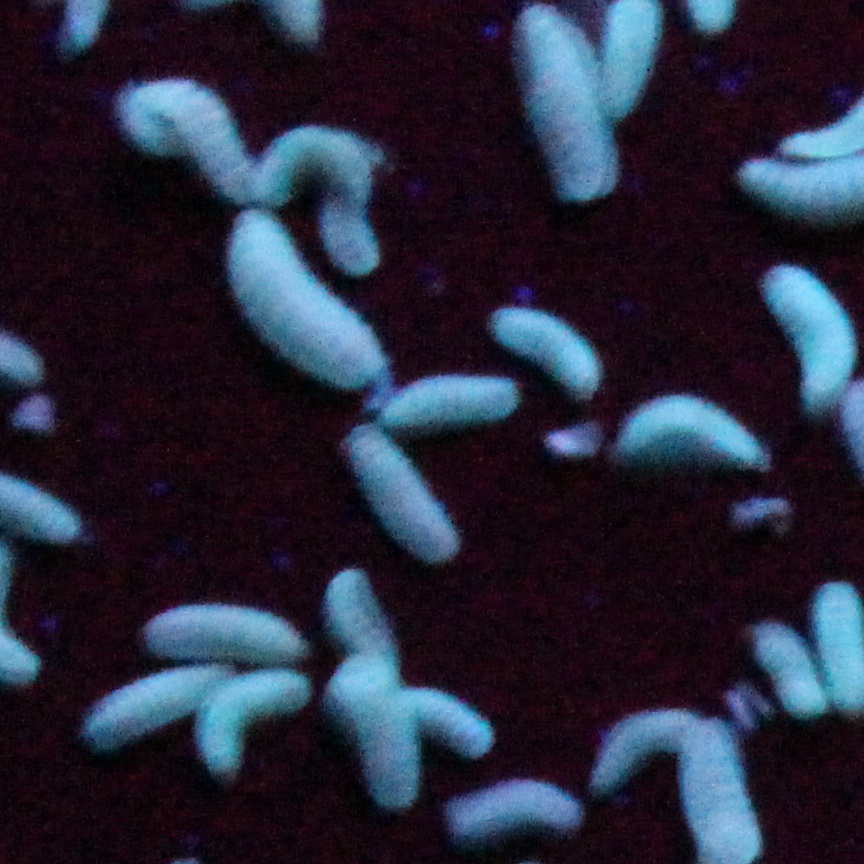larve: (202, 204, 390, 408), (107, 72, 267, 210), (333, 424, 476, 567), (318, 654, 434, 816), (748, 256, 862, 416), (317, 124, 411, 293), (613, 393, 773, 487), (195, 664, 313, 780), (139, 596, 319, 667), (485, 301, 608, 404), (742, 613, 825, 744), (433, 773, 590, 841), (73, 667, 216, 741), (373, 366, 518, 437), (397, 676, 499, 760)
